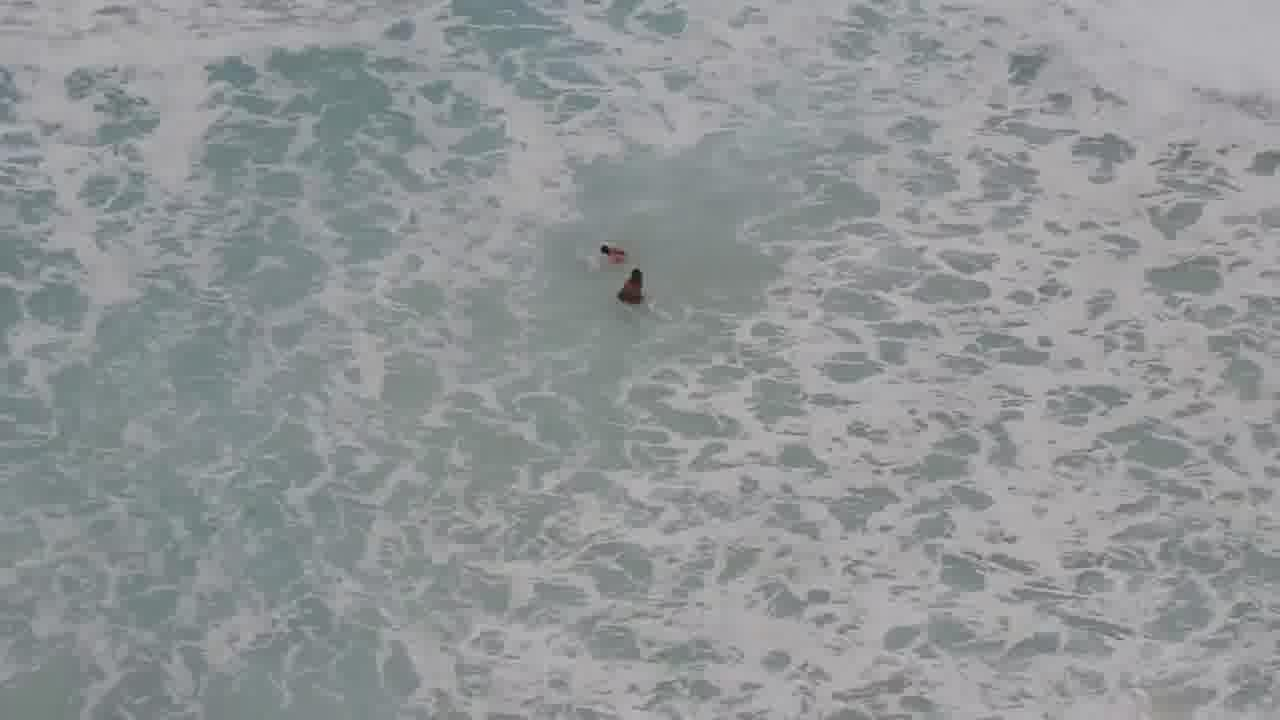human: (603, 264, 668, 308), (580, 227, 644, 261)
